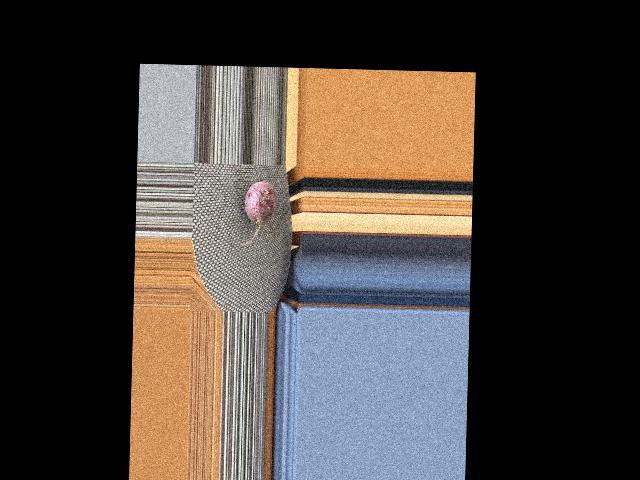beet: (240, 181, 277, 246)
